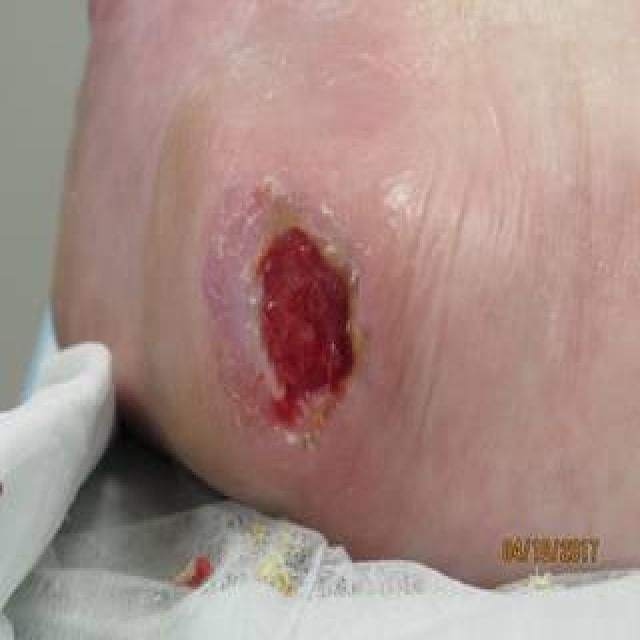stage-3: (258, 228, 352, 424)
